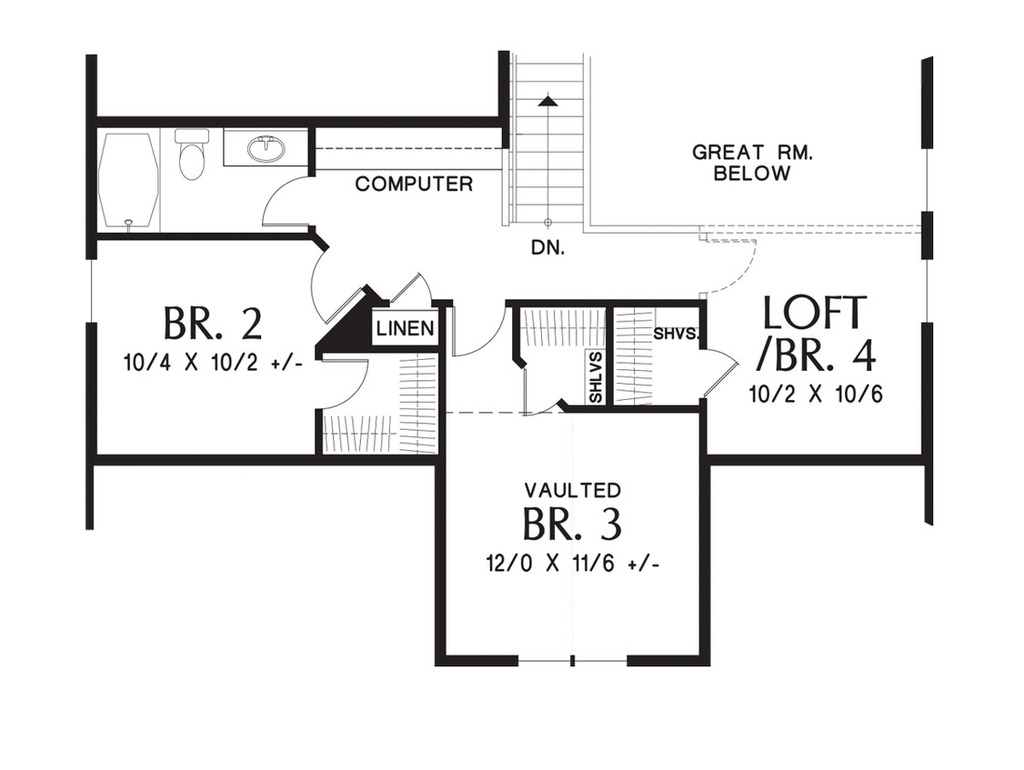door: (307, 248, 362, 322), (452, 307, 508, 354), (263, 177, 316, 226), (328, 361, 372, 411), (697, 349, 737, 401), (520, 368, 560, 416), (390, 270, 434, 308)
large_sink: (174, 128, 210, 189)
sink: (216, 129, 312, 168)
stairs: (514, 49, 591, 235)
tub: (100, 126, 160, 234)
